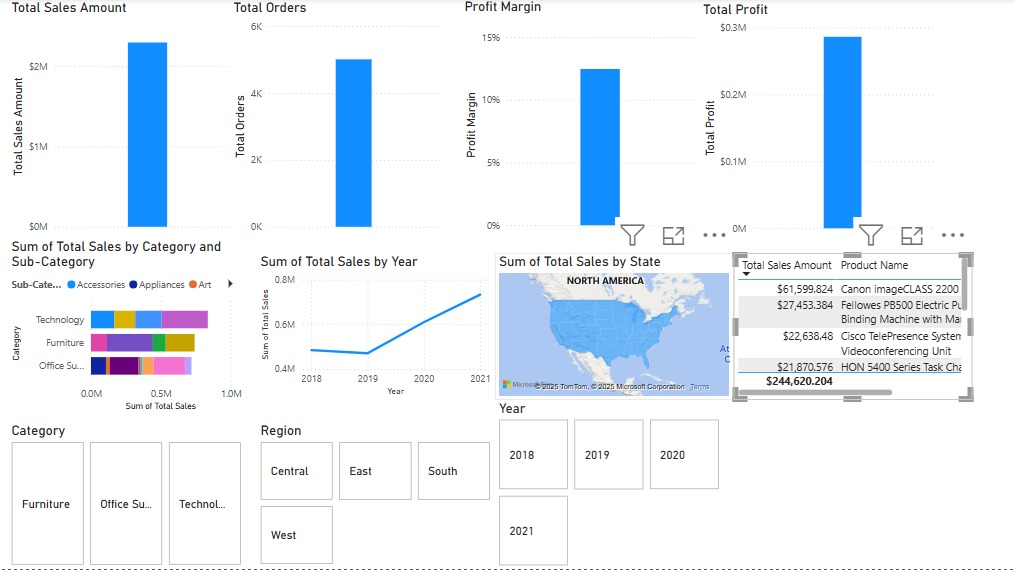

This screenshot's page, from the dashboard's own definition file:
{"tool":"powerbi","page":{"name":"Page 1","canvas":[1280,720],"ordinal":0},"visuals":[{"type":"clusteredColumnChart","fields":{"Y":["Orders.Total Sales Amount"]},"box":[9.4,1.9,300.5,300.5],"z":0},{"type":"clusteredColumnChart","fields":{"Y":["Orders.Total Profit"]},"box":[880.6,3.8,300.5,300.5],"z":1000},{"type":"clusteredColumnChart","fields":{"Y":["Orders.Profit Margin"]},"box":[580.2,0,300.5,300.5],"z":2000},{"type":"clusteredColumnChart","fields":{"Y":["Orders.Total Orders"]},"box":[289.1,1.9,270.2,300.5],"z":3000},{"type":"barChart","fields":{"Category":["Orders.Category"],"Series":["Orders.Sub-Category"],"Y":["Sum(Orders.Total Sales)"]},"box":[9.4,302.4,300.5,223],"z":4000},{"type":"lineChart","fields":{"Category":["Orders.Order Date.Variation.Date Hierarchy.Year","Orders.Order Date.Variation.Date Hierarchy.Quarter","Orders.Order Date.Variation.Date Hierarchy.Month","Orders.Order Date.Variation.Date Hierarchy.Day"],"Y":["Sum(Orders.Total Sales)"]},"box":[323.2,321.3,300.5,185.2],"z":5000},{"type":"filledMap","fields":{"Category":["Orders.State"]},"box":[623.6,321.3,300.5,185.2],"z":6000},{"type":"tableEx","fields":{"Values":["Orders.Total Sales Amount","Orders.Product Name"]},"box":[924.1,321.3,300.5,185.2],"z":7000},{"type":"advancedSlicerVisual","fields":{"Values":["Orders.Category"]},"box":[9,535,300,185],"z":8000},{"type":"advancedSlicerVisual","fields":{"Values":["Orders.Region"]},"box":[323,535,300,185],"z":9000},{"type":"advancedSlicerVisual","fields":{"Values":["Orders.Order Date.Variation.Date Hierarchy.Year"]},"box":[623.6,506.5,287.2,213.5],"z":10000}]}

Visuals, with their boxes in screenshot pixels (x1, y1, x2, y2), scaled from the page's 1280x720 canvas onto the 1015x570 screenshot:
clusteredColumnChart - Orders.Total Sales Amount: {"x1": 7, "y1": 2, "x2": 246, "y2": 239}
clusteredColumnChart - Orders.Total Profit: {"x1": 698, "y1": 3, "x2": 937, "y2": 241}
clusteredColumnChart - Orders.Profit Margin: {"x1": 460, "y1": 0, "x2": 698, "y2": 238}
clusteredColumnChart - Orders.Total Orders: {"x1": 229, "y1": 2, "x2": 444, "y2": 239}
barChart - Orders.Category x Orders.Sub-Category: {"x1": 7, "y1": 239, "x2": 246, "y2": 416}
lineChart - Orders.Order Date.Variation.Date Hierarchy.Year x Orders.Order Date.Variation.Date Hierarchy.Quarter: {"x1": 256, "y1": 254, "x2": 495, "y2": 401}
filledMap - Orders.State: {"x1": 494, "y1": 254, "x2": 733, "y2": 401}
tableEx - Orders.Total Sales Amount x Orders.Product Name: {"x1": 733, "y1": 254, "x2": 971, "y2": 401}
advancedSlicerVisual - Orders.Category: {"x1": 7, "y1": 424, "x2": 245, "y2": 569}
advancedSlicerVisual - Orders.Region: {"x1": 256, "y1": 424, "x2": 494, "y2": 569}
advancedSlicerVisual - Orders.Order Date.Variation.Date Hierarchy.Year: {"x1": 494, "y1": 401, "x2": 722, "y2": 569}
